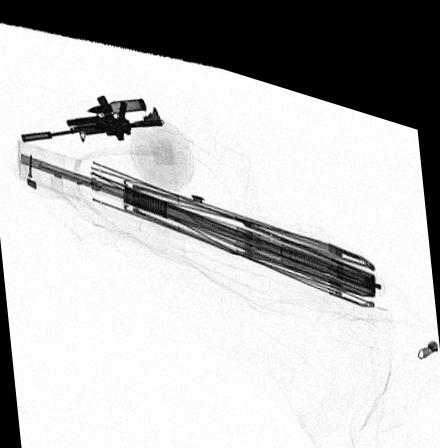Bullet: (88, 89, 146, 107)
Gun: (22, 89, 162, 140)
